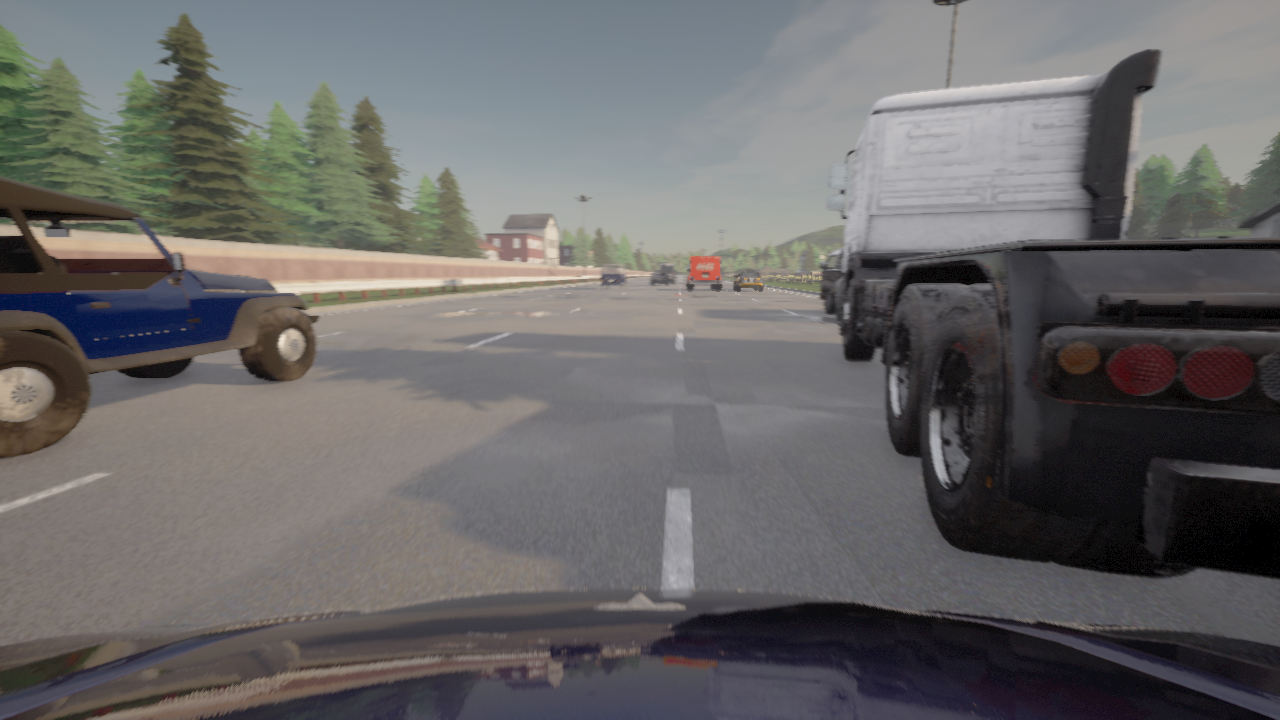cyclist: (827, 49, 1279, 578), (0, 588, 1279, 719), (820, 248, 843, 313), (686, 256, 722, 289), (600, 264, 627, 289), (734, 269, 763, 290), (659, 263, 675, 282)
